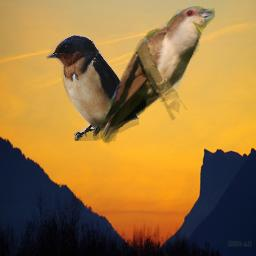Cuckoo: (95, 6, 215, 146)
Swallow: (46, 34, 139, 141)
